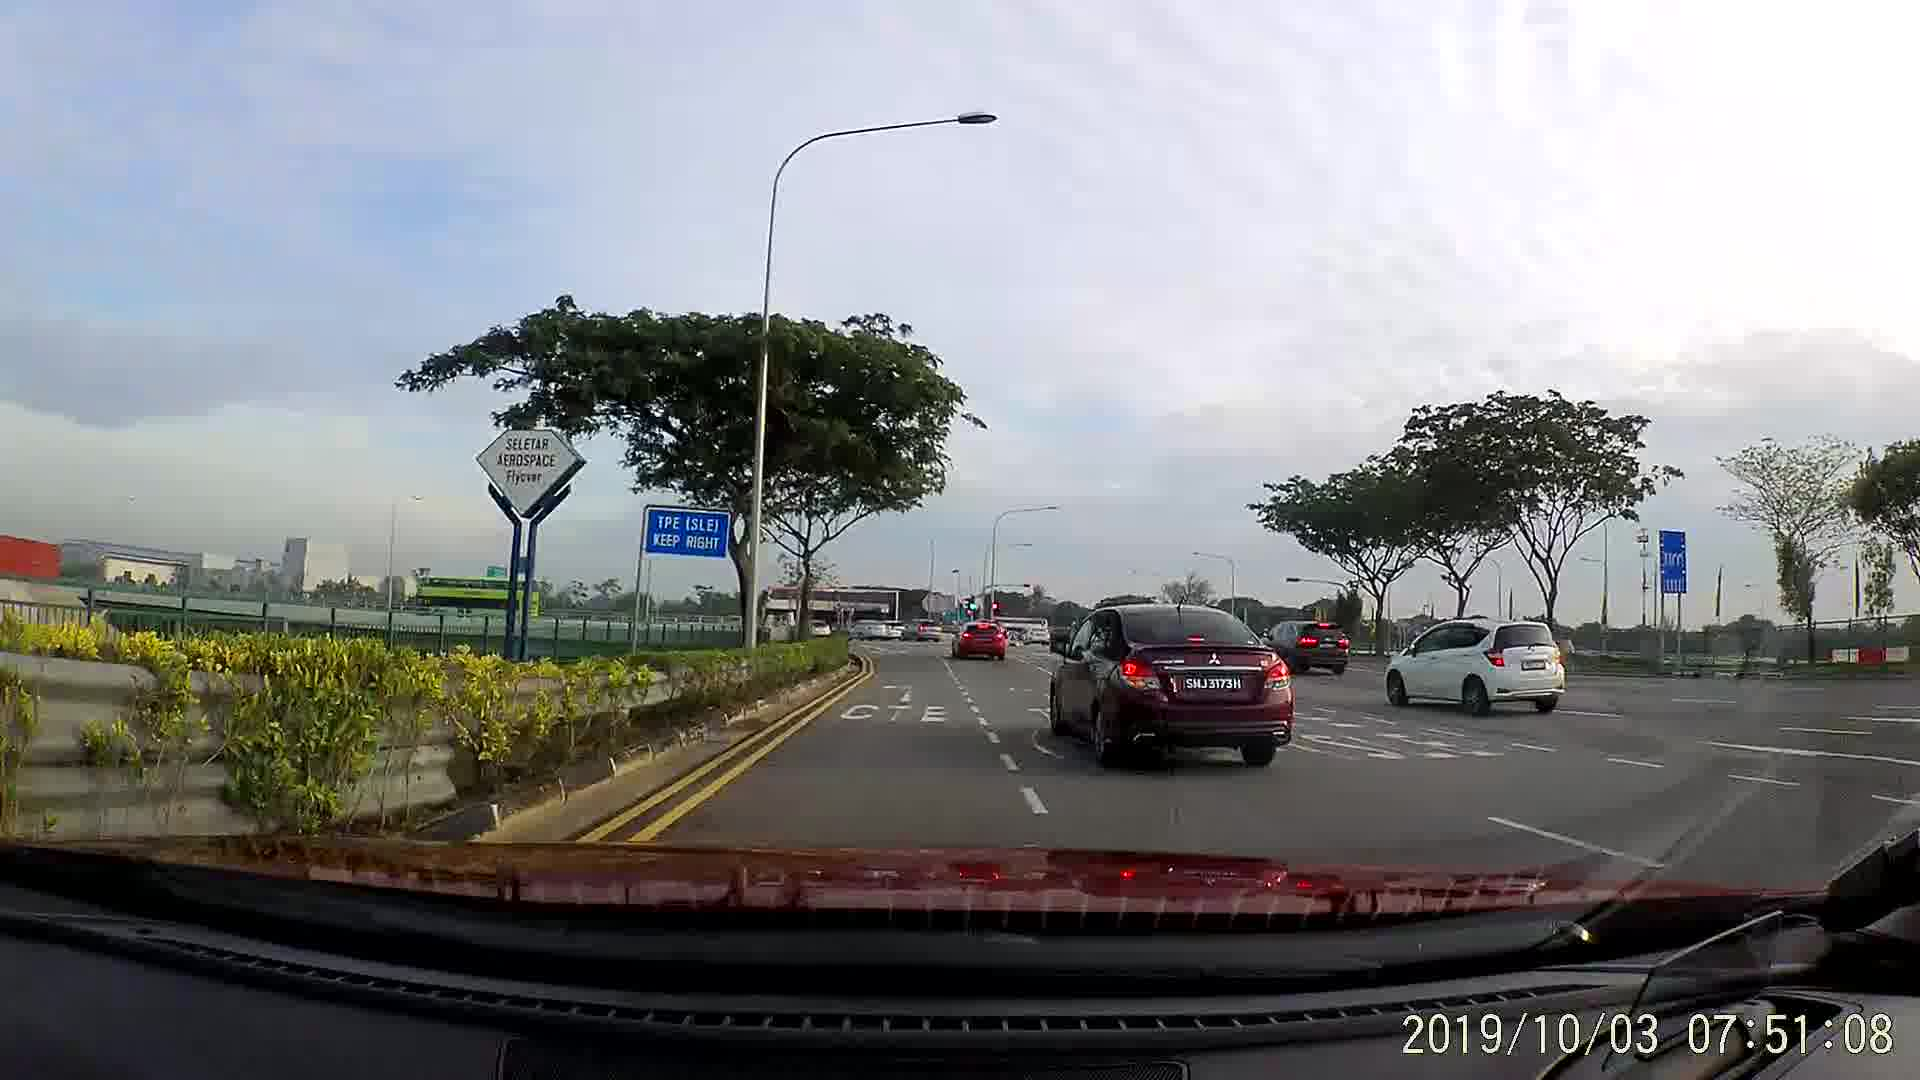bus: (761, 583, 905, 645)
car: (1044, 607, 1295, 767), (1385, 615, 1563, 720), (1267, 618, 1346, 683), (947, 617, 1007, 663), (899, 615, 943, 642), (853, 617, 887, 645)
